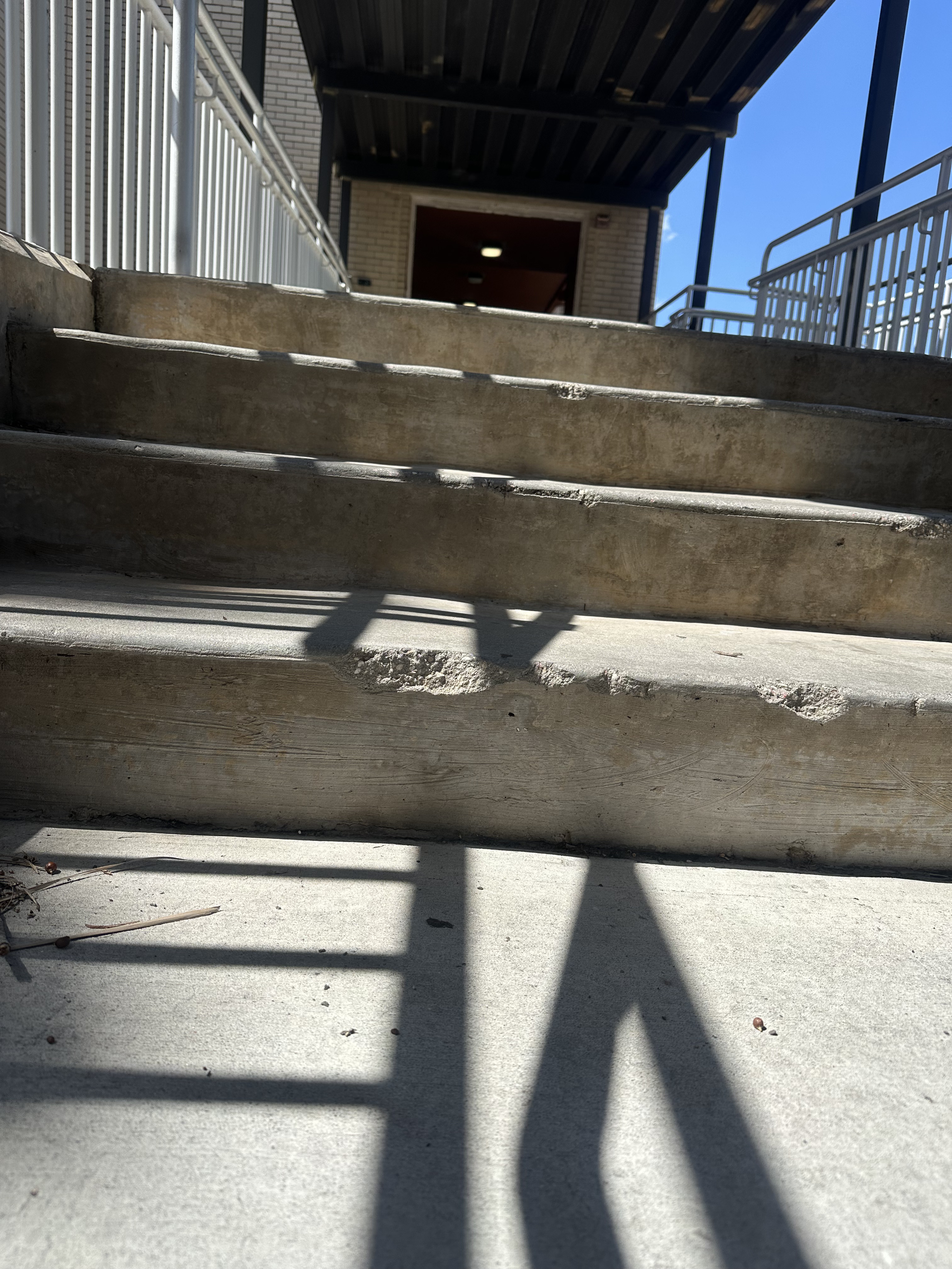stairs: (2, 269, 952, 880)
